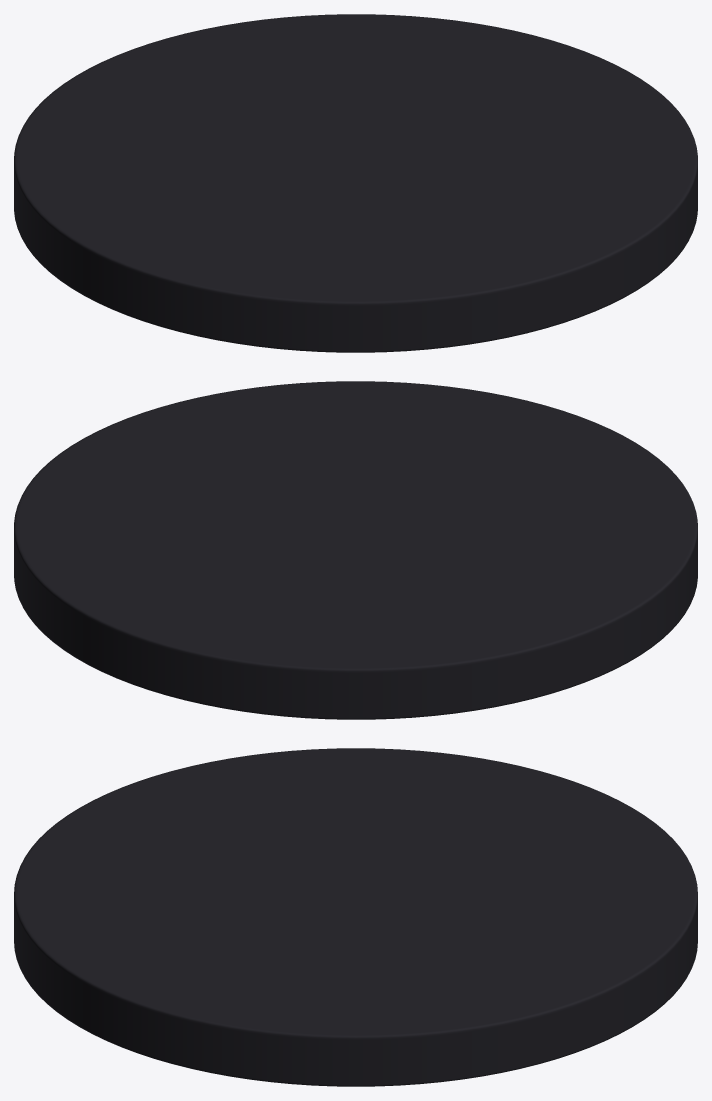
File: Target.obj
3 renders of one model, top to bottom at view 1: azimuth 30°, elevation 25°; view 2: azimuth 150°, elevation 25°; view 3: azimuth 270°, elevation 25°, orthographic.
Parts seen in each view (by area): view 1: Target; view 2: Target; view 3: Target.
Boxes of the visible parts, x1,y1,x2,y2 form: Target: (14,14,697,352); Target: (14,381,697,719); Target: (14,748,697,1086).
Size of the model in its own units: 0.4561 by 0.0372 by 0.4561.
1 material, 1 textured.
